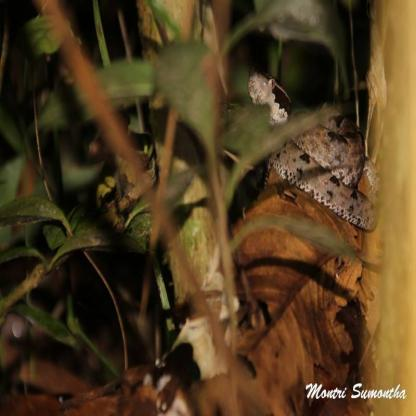Snake: (241, 60, 384, 240)
